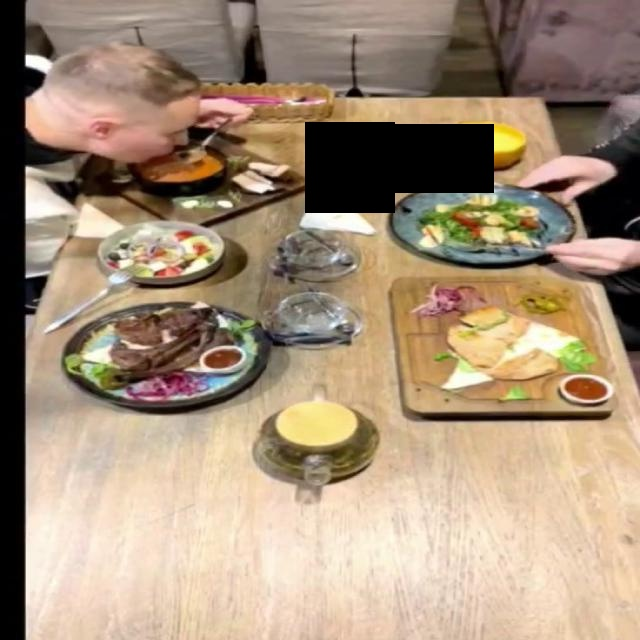meat: (390, 279, 619, 415), (60, 300, 273, 407)
salad: (390, 181, 580, 265), (95, 220, 225, 285)
soup: (84, 138, 315, 226), (442, 121, 528, 170)
tea: (236, 375, 396, 501)
